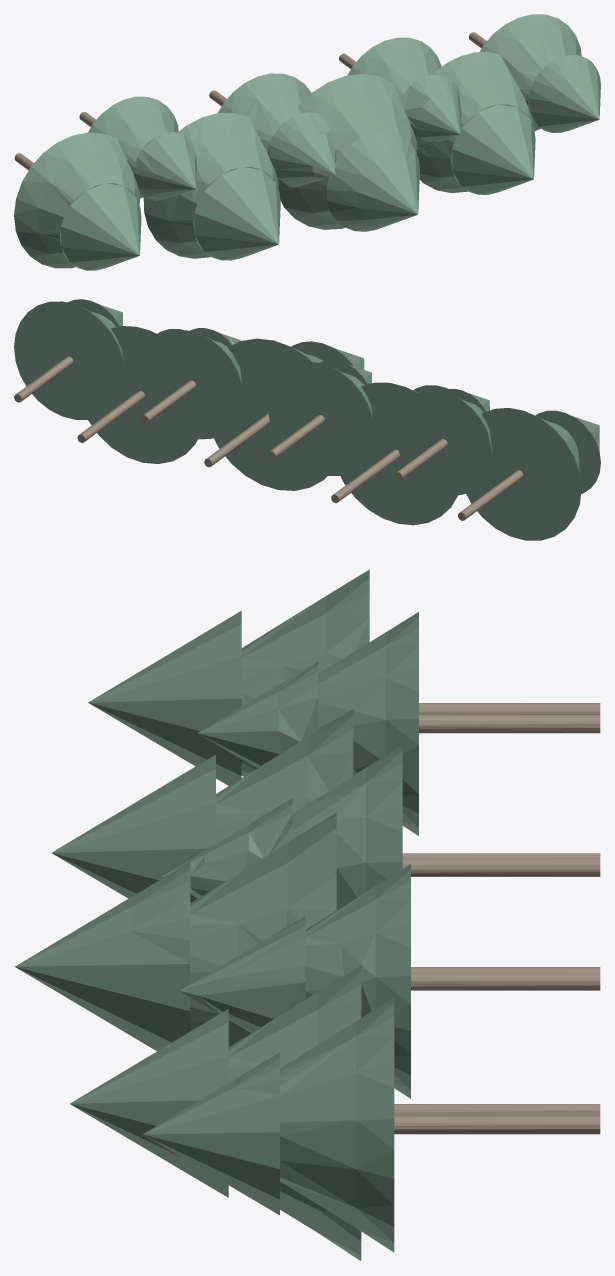
The model's file is r-126-pitch-pine-treeline.glb.
The picture shows the model from 3 angles, top to bottom: view 1: azimuth 30°, elevation 25°; view 2: azimuth 150°, elevation 25°; view 3: azimuth 270°, elevation 25°; orthographic projection. The views are drawn at different scales.
Parts seen in each view (by area): view 1: crowns, trunks; view 2: crowns, trunks; view 3: crowns, trunks.
Boxes of the visible parts, x1,y1,x2,y2 form: crowns: [14, 14, 600, 270]; trunks: [14, 32, 486, 170]; crowns: [14, 299, 600, 540]; trunks: [14, 356, 523, 520]; crowns: [15, 569, 418, 1260]; trunks: [394, 703, 600, 1134].
Size of the model in its own units: 35420 by 9557 by 15999.
